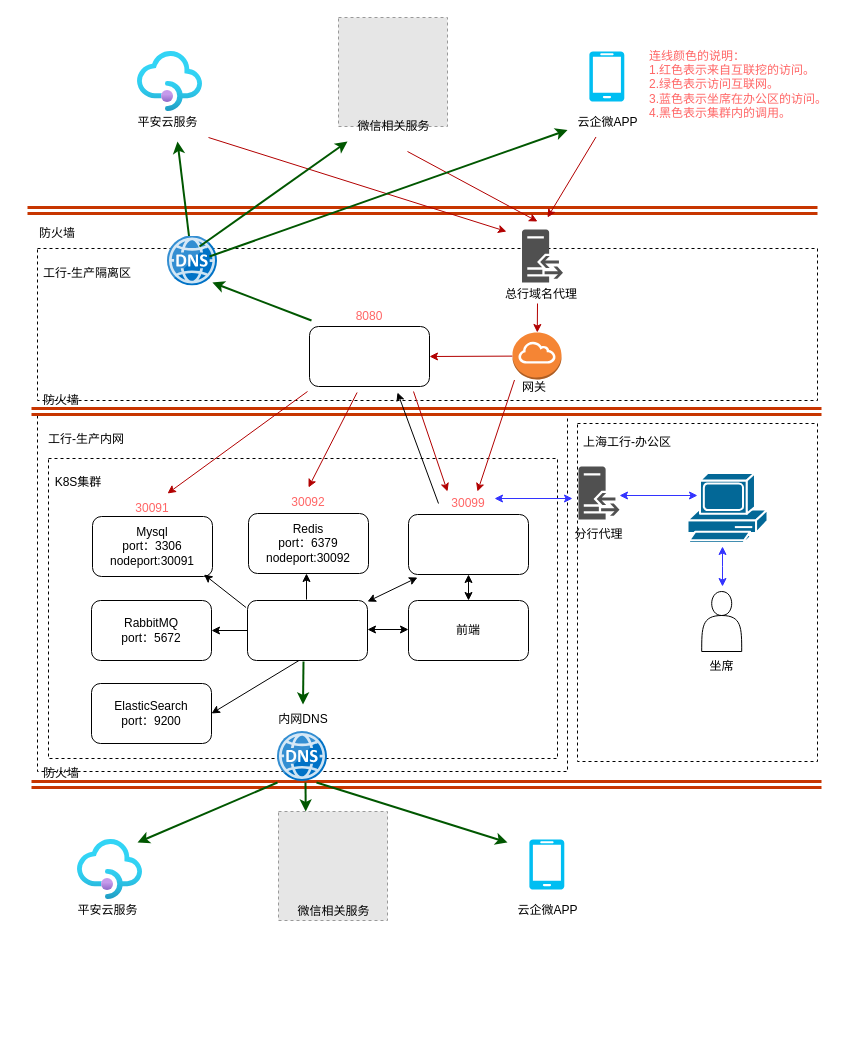
The diagram is 845 pixels wide and 1054 high, and some of its shapes have lost their labels. Grey dashed boxes stand in for pictures. Each missing label, with the centre of its shape:
docker应用 10.175.22.222 10.175.22.48: [369,356]
Nginx port：80 nodeport:30099: [468,544]
后端 port：80: [307,630]
